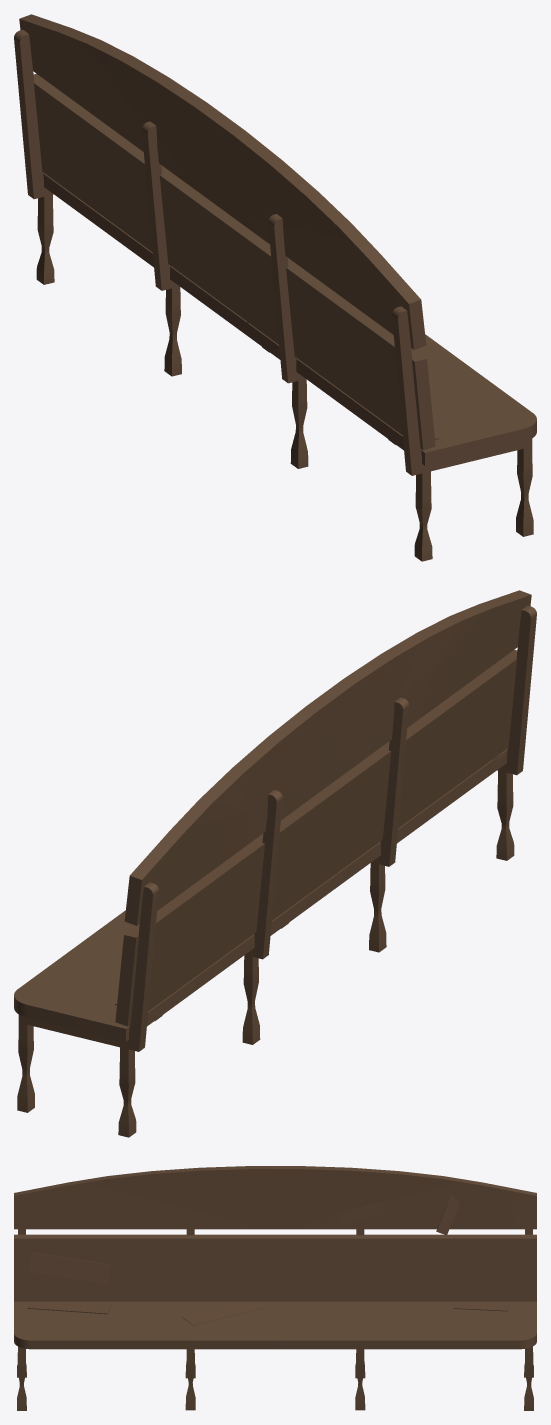
File: BS_bench met leuning.fbx
The picture shows the model from 3 angles, top to bottom: view 1: azimuth 30°, elevation 25°; view 2: azimuth 150°, elevation 25°; view 3: azimuth 270°, elevation 25°; orthographic projection. The views are drawn at different scales.
Visible parts, largest first — view 1: Cube.092; view 2: Cube.092; view 3: Cube.092.
Boxes of the visible parts, <box> form: Cube.092: <box>14,14,536,561</box>; Cube.092: <box>14,590,536,1137</box>; Cube.092: <box>14,1166,536,1410</box>.
Bounding box in the file's own units: 0.7784 × 1.55 × 3.6.
